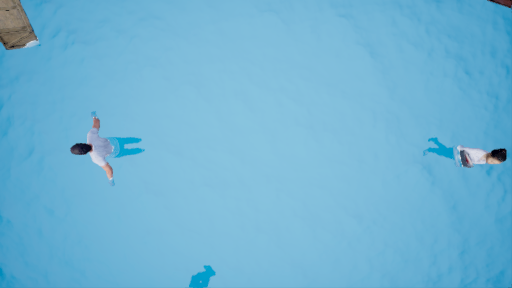person: (64, 109, 166, 179), (421, 133, 512, 177)
